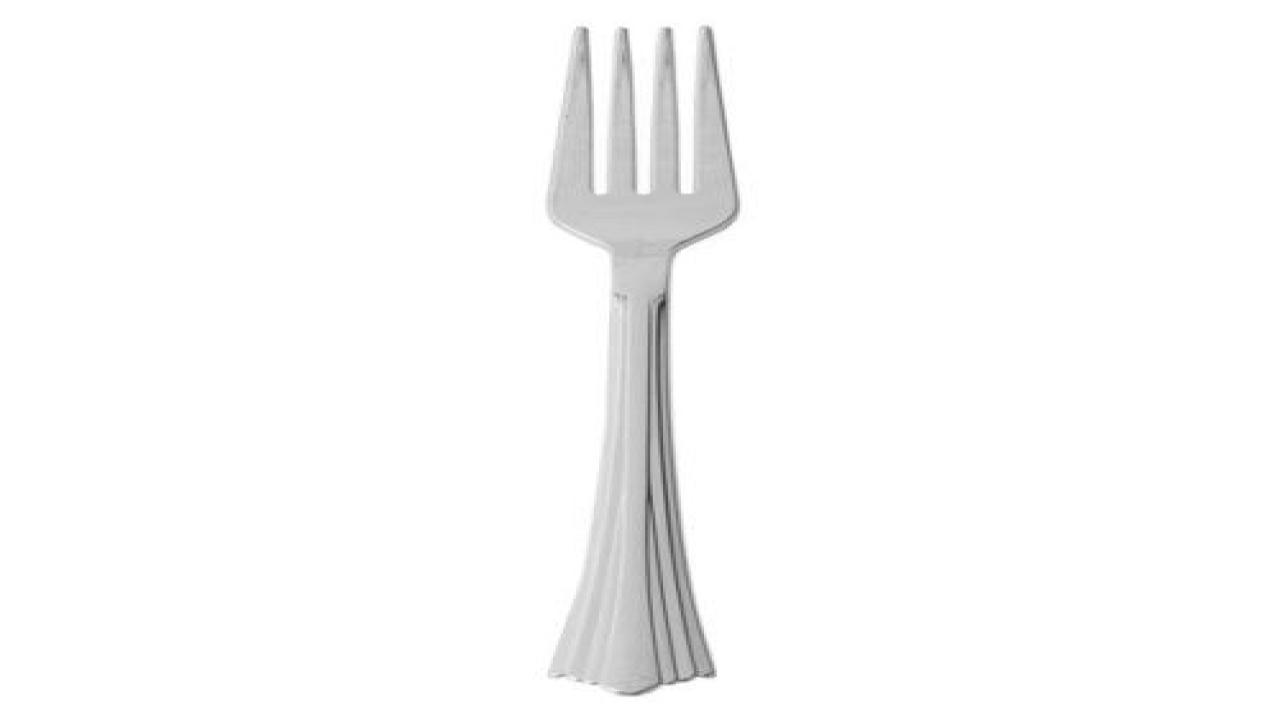fork: (540, 23, 740, 696)
